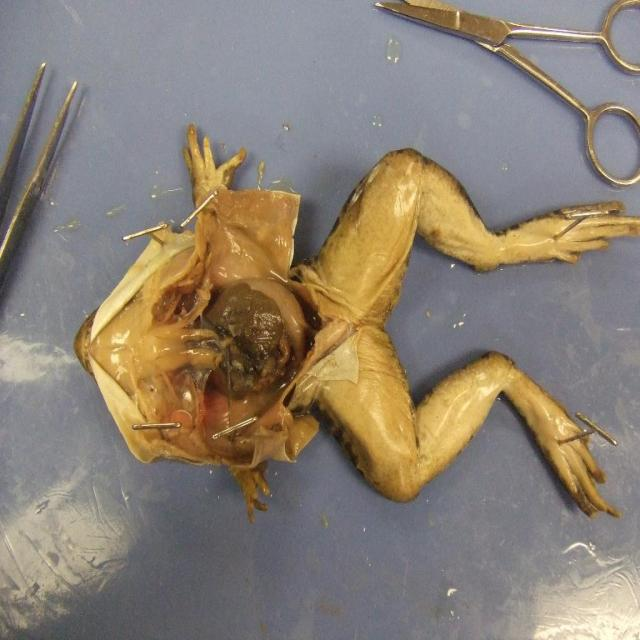scissors: (374, 0, 639, 188)
